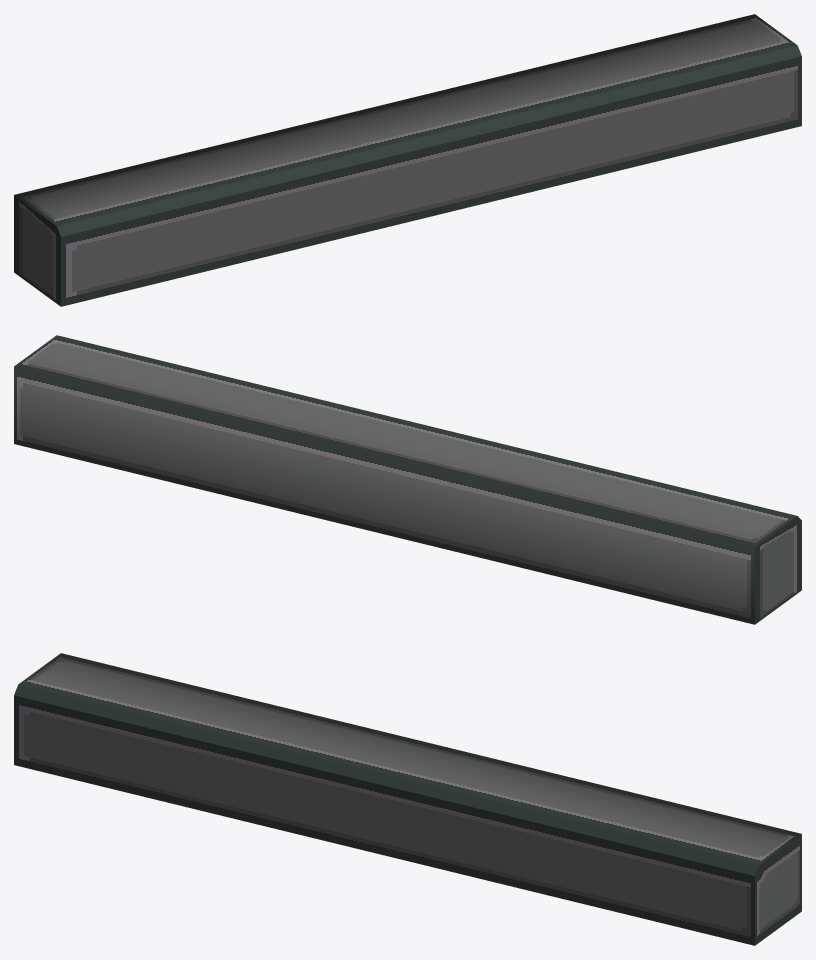
Rendered from StairStep.fbx.
3 renders of one model, top to bottom at view 1: azimuth 30°, elevation 25°; view 2: azimuth 150°, elevation 25°; view 3: azimuth 330°, elevation 25°, orthographic.
Parts seen in each view (by area): view 1: BrickBlock.001; view 2: BrickBlock.001; view 3: BrickBlock.001.
Boxes of the visible parts, left/top/right/bottom form: BrickBlock.001: left=14, top=14, right=801, bottom=306; BrickBlock.001: left=14, top=335, right=801, bottom=624; BrickBlock.001: left=14, top=653, right=801, bottom=945.
Bounding box in the file's own units: 1000 × 100 × 110.
